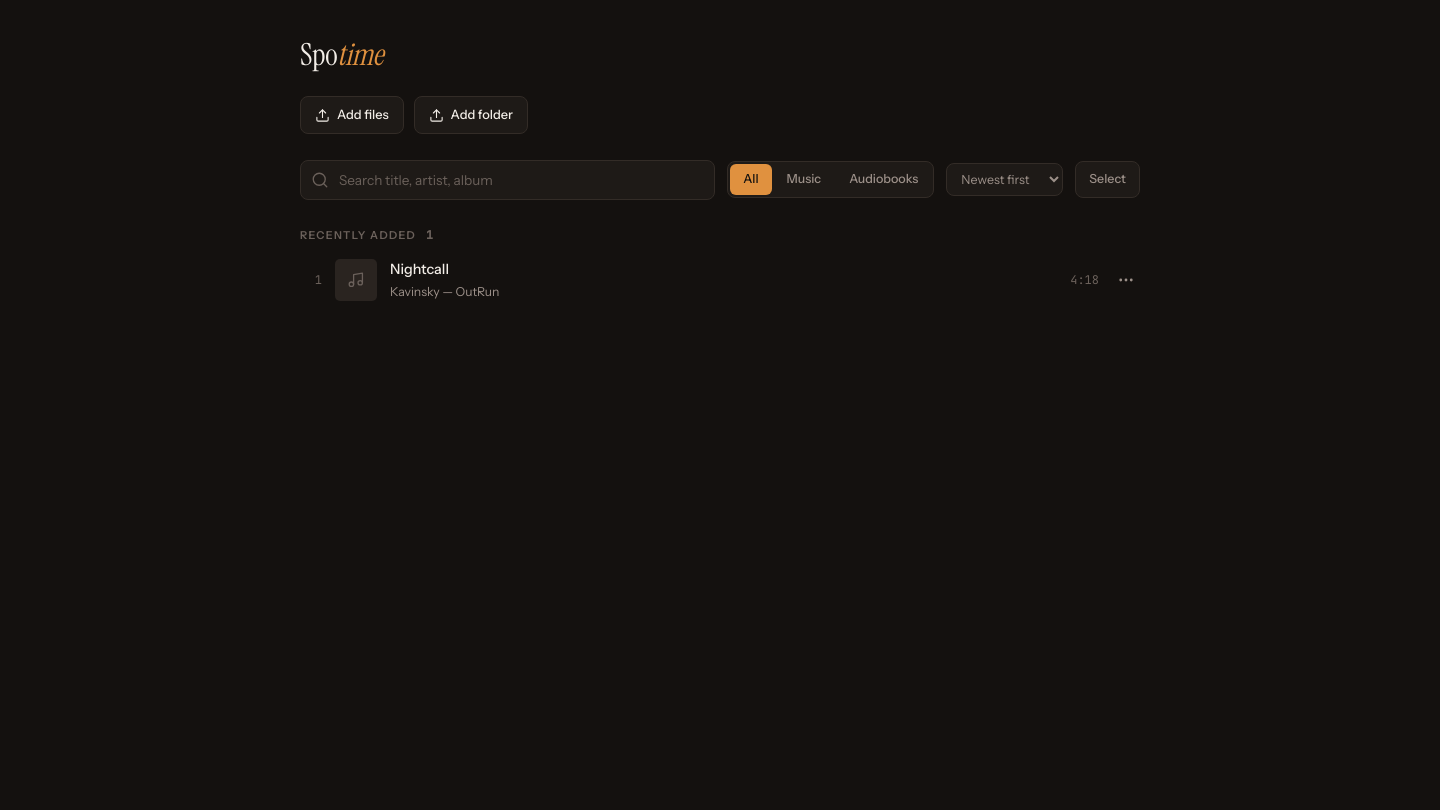
Test case: playing music › plays the track you click
Click the button named "Play Nightcall".
click(720, 280)  # box [290, 251, 1150, 309]
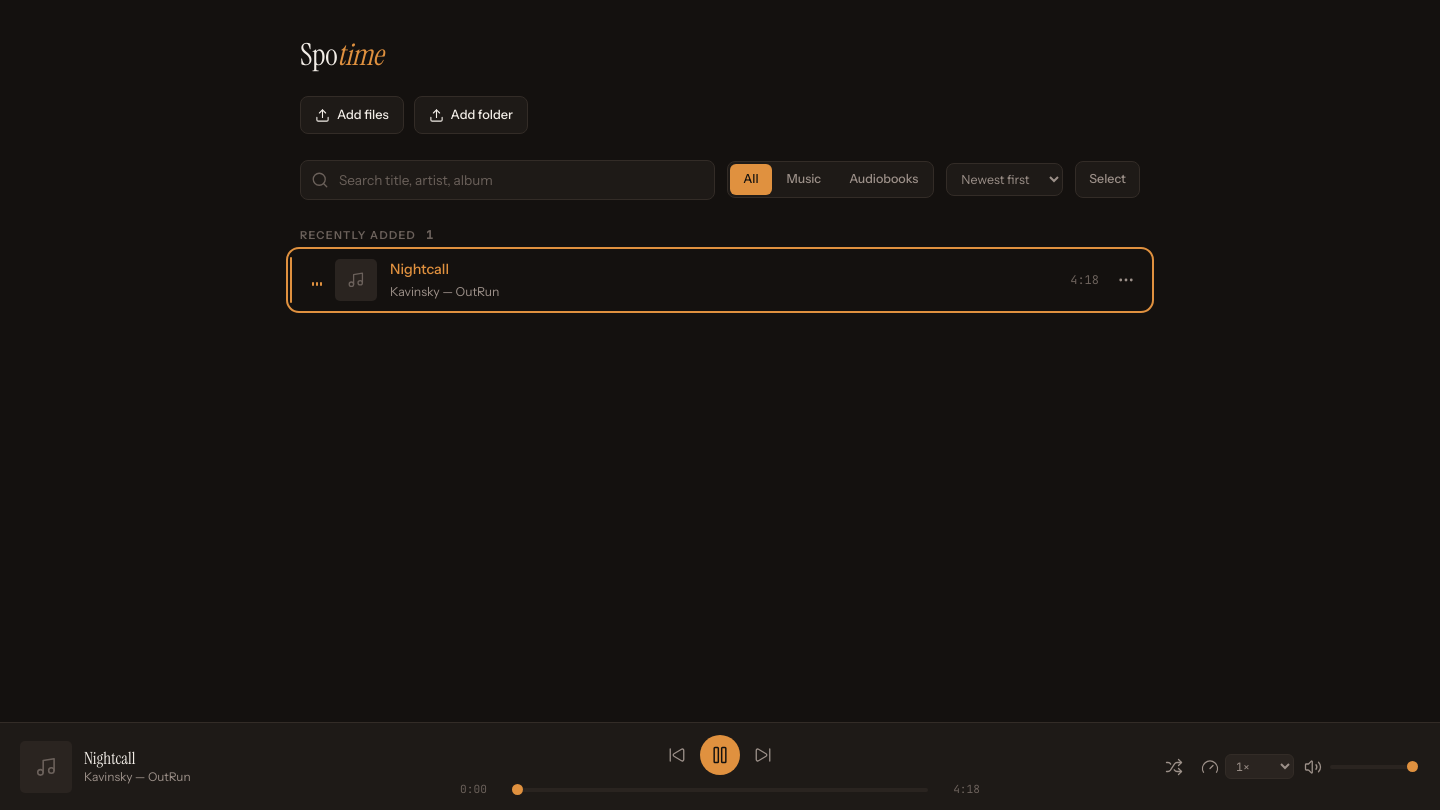
Result: the text "Nightcall" is shown at [84, 746, 135, 768]
